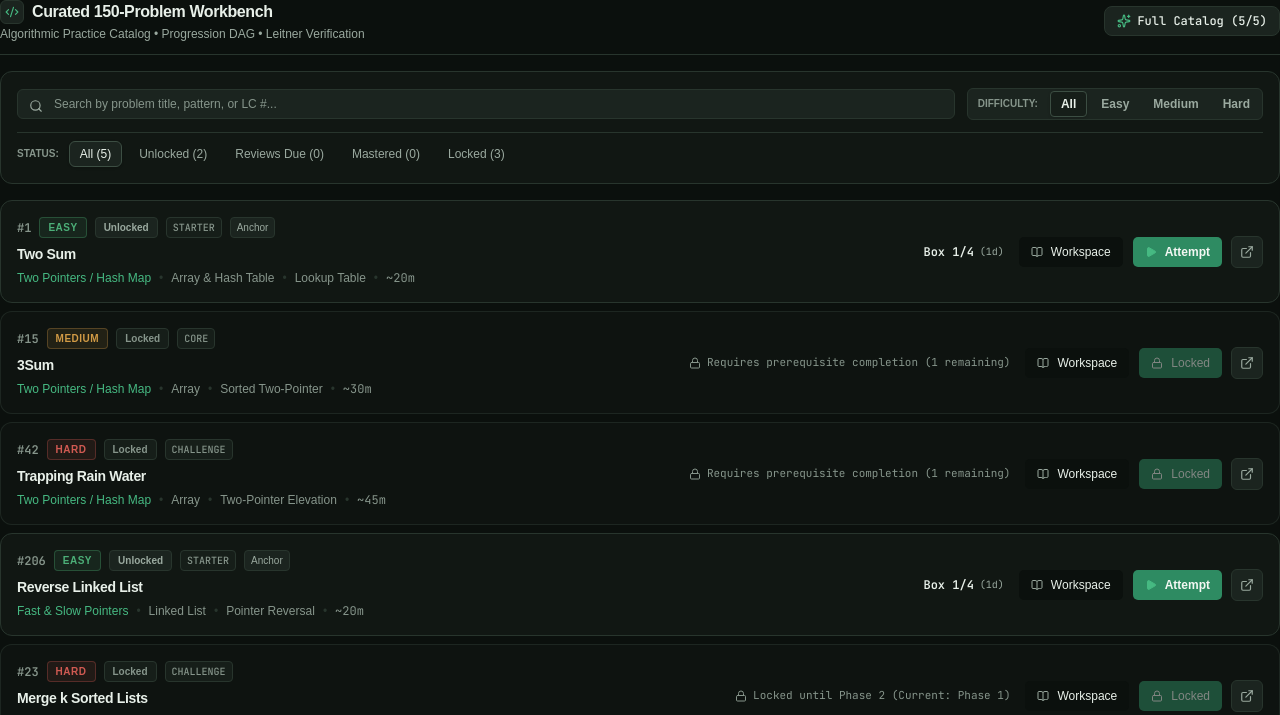
Zone 5: DSA Problem Workbench › 2. filters problems by search query (title, pattern, leetcode number)
Check: the heading "Two Sum" is shown, box top-left (17, 246), bottom-right (76, 262)
Check: the heading "3Sum" is shown, box top-left (17, 357), bottom-right (54, 373)
Note: Search by title
Type "Trapping" into the field named "Search problem catalog". click: (486, 104)
box: top-left (17, 89), bottom-right (955, 119)
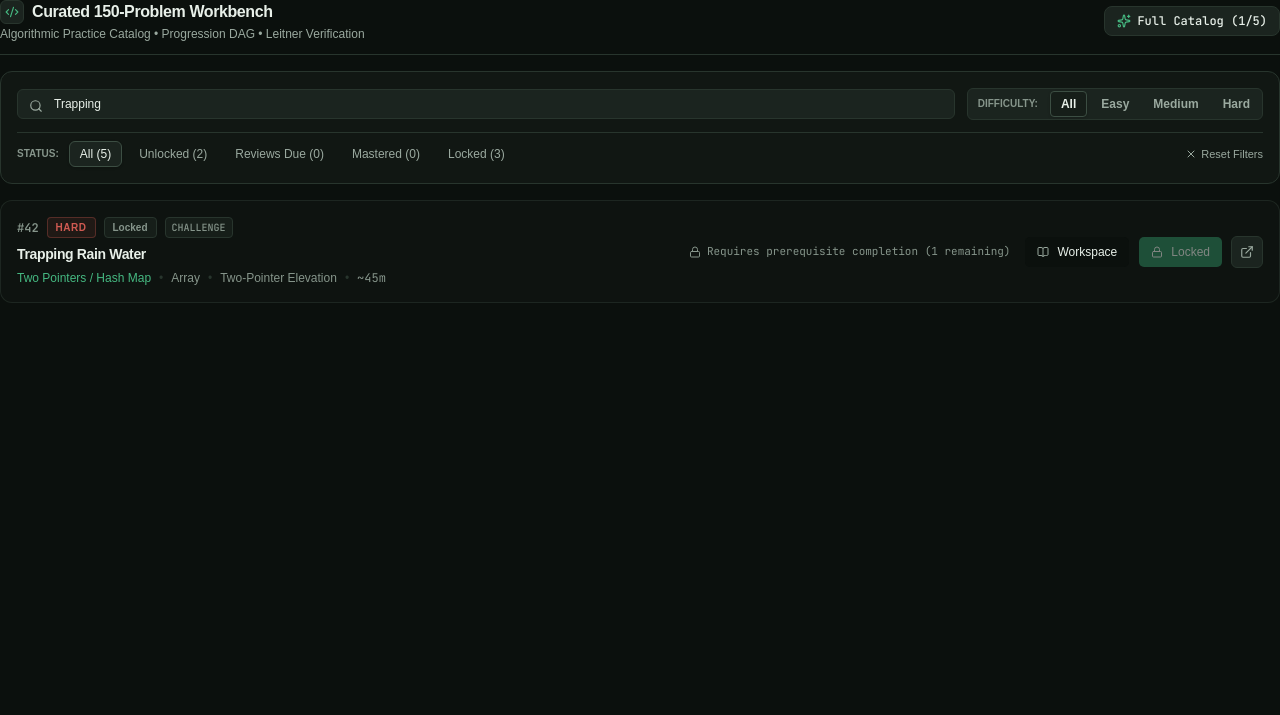
Check: the heading "Trapping Rain Water" is shown, box top-left (17, 246), bottom-right (146, 262)
Check: the heading "Two Sum" is gone
Note: Search by LeetCode number #206
Replace the text in the field named "Search problem catalog" with "206". click: (486, 104)
box: top-left (17, 89), bottom-right (955, 119)
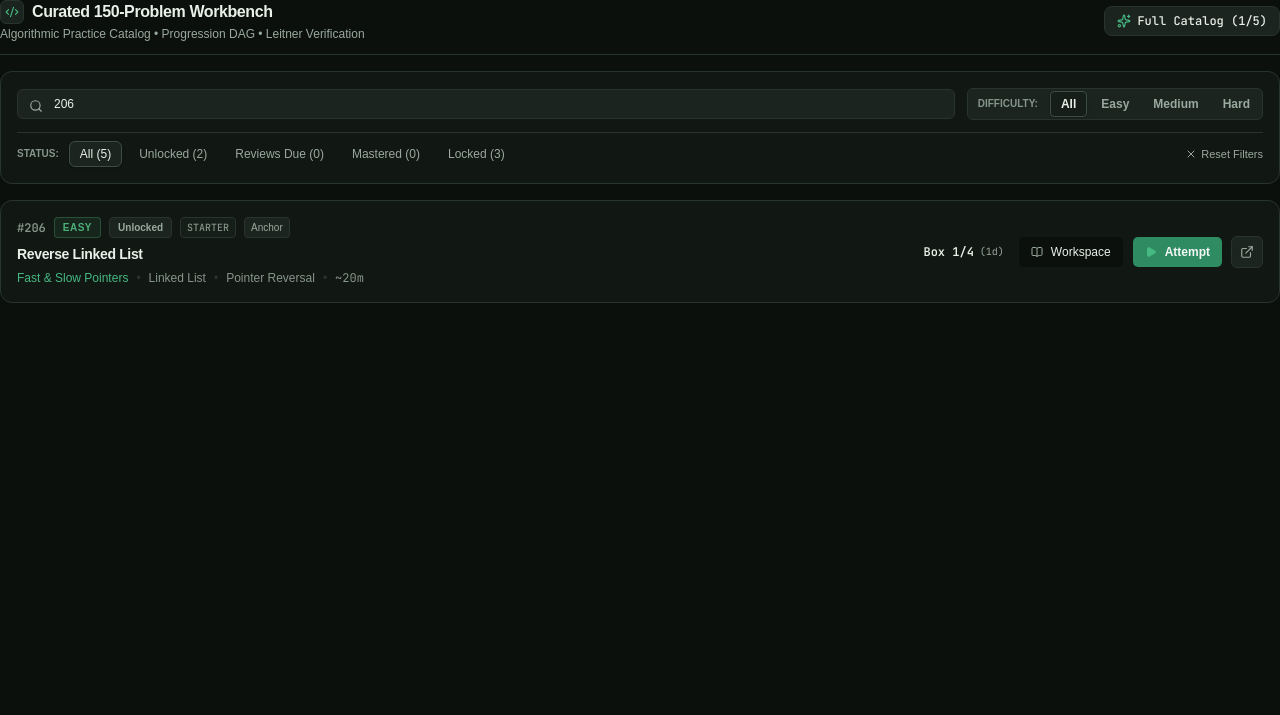
Check: the heading "Reverse Linked List" is shown, box top-left (17, 246), bottom-right (143, 262)
Check: the heading "Trapping Rain Water" is gone
Note: Search by pattern
Replace the text in the field named "Search problem catalog" with "Heaps". click: (486, 104)
box: top-left (17, 89), bottom-right (955, 119)
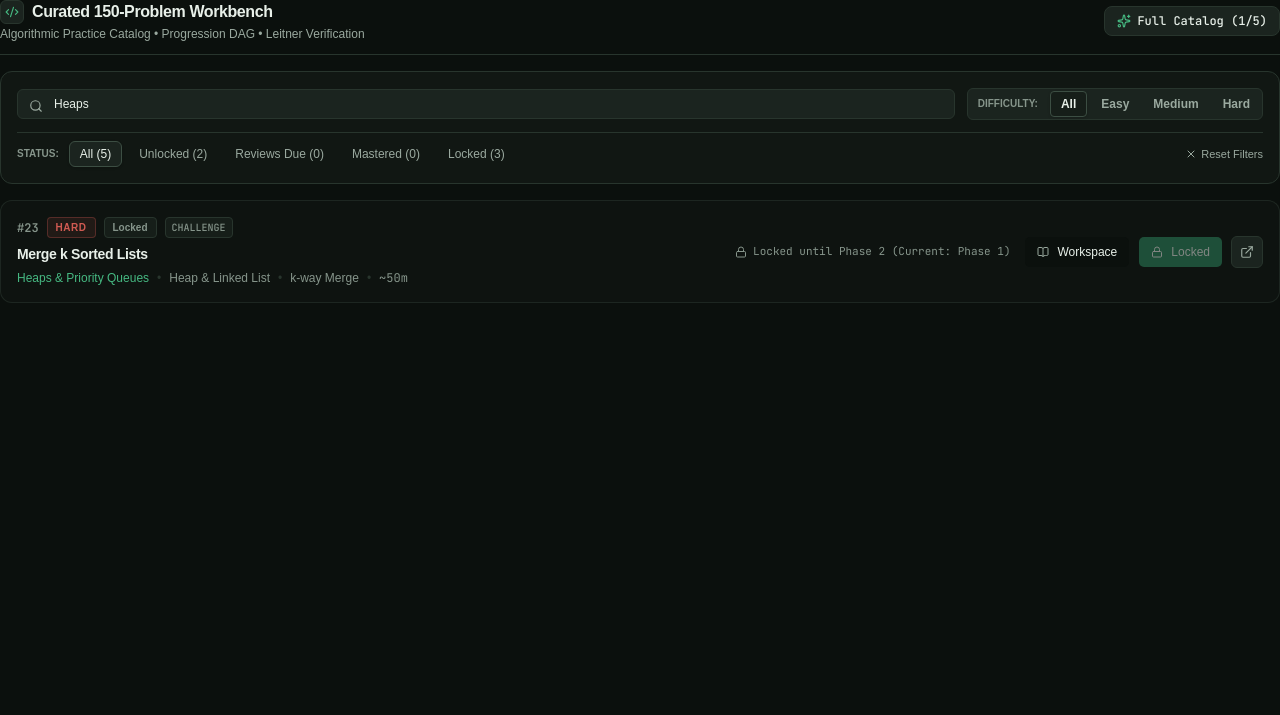
Check: the heading "Merge k Sorted Lists" is shown, box top-left (17, 246), bottom-right (148, 262)
Check: the heading "Reverse Linked List" is gone
